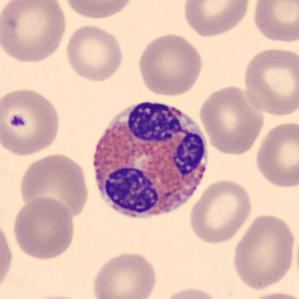Eosinophil: (85, 92, 214, 228)
Platelets: (5, 106, 32, 134)
RBC: (230, 210, 297, 292), (17, 150, 91, 222), (198, 83, 266, 157), (135, 31, 206, 97), (187, 177, 254, 245), (0, 85, 63, 157), (0, 0, 69, 65), (10, 195, 76, 261), (241, 45, 298, 118), (63, 22, 126, 84), (89, 248, 159, 299), (253, 119, 299, 190), (180, 0, 254, 39), (250, 0, 298, 44), (62, 0, 137, 21), (0, 217, 14, 296), (157, 285, 223, 299), (242, 289, 298, 299), (28, 292, 92, 299)
